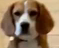Dog: (1, 1, 53, 38)
